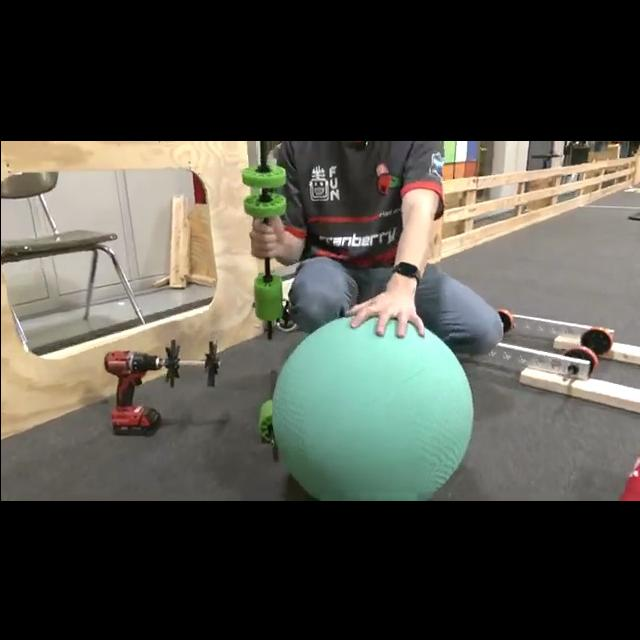ALGAE: (268, 312, 474, 498)
